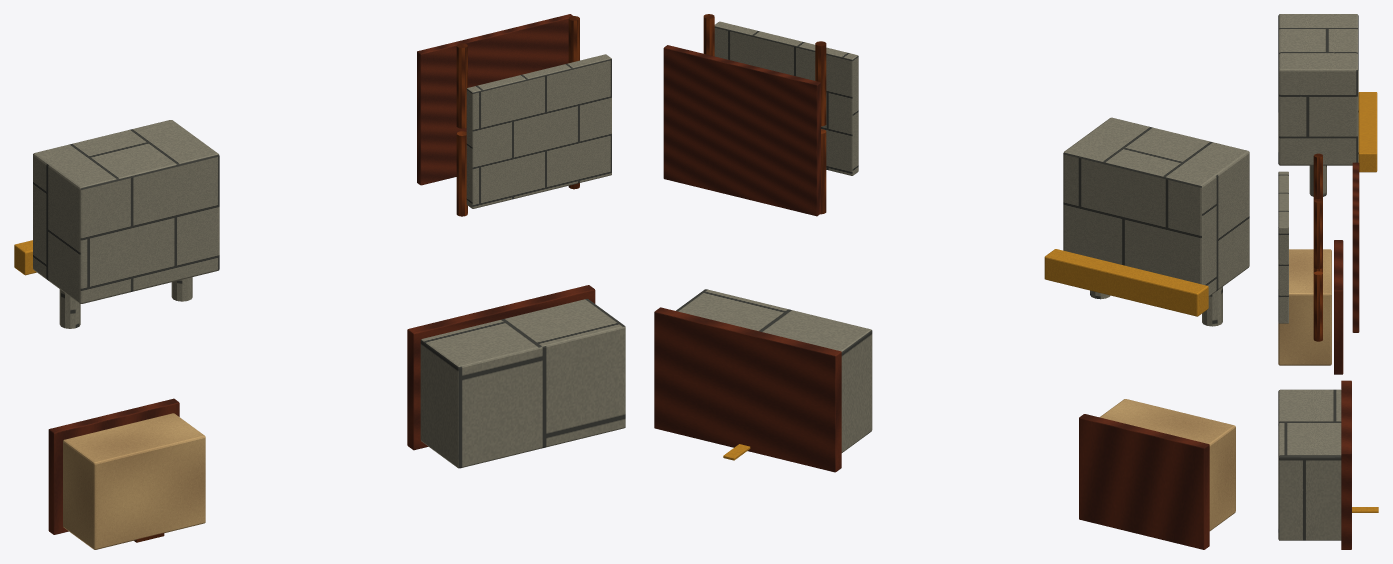
Rendered from EraBuildingKit_Detailed.fbx.
3 renders of one model, left to right at view 1: azimuth 30°, elevation 25°; view 2: azimuth 150°, elevation 25°; view 3: azimuth 270°, elevation 25°, orthographic. The views are drawn at different scales.
Visible parts, largest first — view 1: TempleBody, BarracksBody, MarketPlatform, HouseBody, MarketAwning, BarracksRoof, HouseRoof, MarketPost.001, MarketPost; view 2: TempleBody, BarracksRoof, MarketAwning, HouseRoof, BarracksBody, MarketPlatform, TemplePediment, HouseBody, MarketPost.001; view 3: TempleBody, BarracksBody, HouseBody, BarracksRoof, MarketPlatform, TemplePediment, MarketAwning, HouseRoof, MarketPost.002, MarketPost.003, MarketPost.001, TempleColumn.001 (+1 smaller).
Boxes of the visible parts, box(x1,y1,x2,y2) form: TempleBody: box(33, 120, 219, 303); BarracksBody: box(420, 299, 625, 468); MarketPlatform: box(466, 54, 611, 208); HouseBody: box(63, 413, 205, 549); MarketAwning: box(417, 14, 572, 185); BarracksRoof: box(407, 285, 595, 450); HouseRoof: box(48, 398, 179, 534); MarketPost.001: box(456, 43, 467, 128); MarketPost: box(456, 131, 467, 216); TempleBody: box(1063, 117, 1249, 296); BarracksRoof: box(654, 307, 841, 472); MarketAwning: box(663, 45, 820, 216); HouseRoof: box(1079, 414, 1209, 549); BarracksBody: box(676, 289, 872, 452); MarketPlatform: box(714, 21, 858, 175); TemplePediment: box(1044, 249, 1208, 316); HouseBody: box(1100, 399, 1235, 530); MarketPost.001: box(815, 41, 826, 126); TempleBody: box(1278, 14, 1358, 165); BarracksBody: box(1278, 389, 1341, 540); HouseBody: box(1278, 249, 1331, 365); BarracksRoof: box(1341, 380, 1351, 549); MarketPlatform: box(1278, 171, 1288, 323); TemplePediment: box(1358, 92, 1377, 172); MarketAwning: box(1352, 162, 1359, 332); HouseRoof: box(1334, 240, 1343, 374); MarketPost.002: box(1313, 271, 1322, 341); MarketPost.003: box(1313, 199, 1322, 268); MarketPost.001: box(1313, 153, 1322, 200); TempleColumn.001: box(1309, 165, 1326, 196).
Size of the model in its own units: 40 by 27.75 by 7.5.
5 materials, 5 textured.
